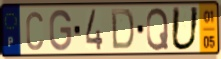4: (85, 8, 104, 52)
C: (25, 9, 45, 52)
D: (109, 8, 136, 52)
G: (48, 8, 73, 52)
Q: (145, 6, 170, 52)
U: (169, 5, 201, 53)
